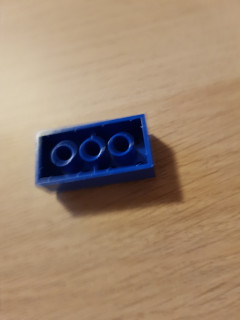2x4 blue: (33, 113, 158, 194)
